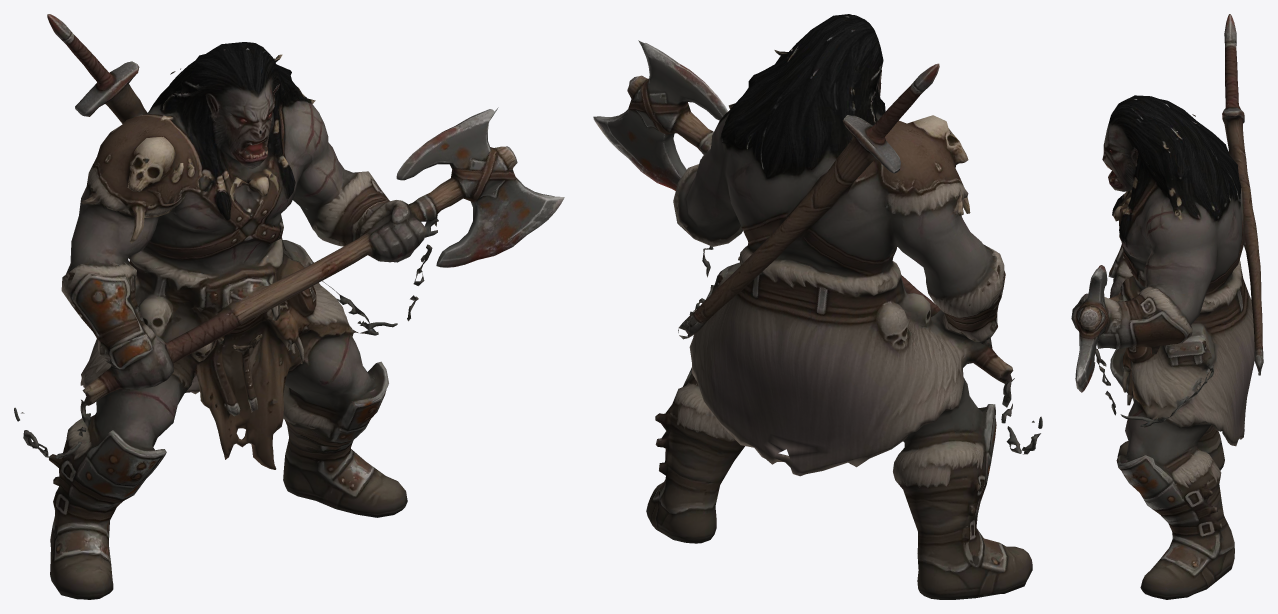
Rendered from Barbaro.glb.
3 renders of one model, left to right at view 1: azimuth 30°, elevation 25°; view 2: azimuth 150°, elevation 25°; view 3: azimuth 270°, elevation 25°, orthographic. The views are drawn at different scales.
Parts seen in each view (by area): view 1: tripo_node_fcbc9fd7-9018-470a-9724-6f06c1329b71; view 2: tripo_node_fcbc9fd7-9018-470a-9724-6f06c1329b71; view 3: tripo_node_fcbc9fd7-9018-470a-9724-6f06c1329b71.
Boxes of the visible parts, x1,y1,x2,y2 form: tripo_node_fcbc9fd7-9018-470a-9724-6f06c1329b71: [14, 14, 564, 599]; tripo_node_fcbc9fd7-9018-470a-9724-6f06c1329b71: [593, 14, 1042, 599]; tripo_node_fcbc9fd7-9018-470a-9724-6f06c1329b71: [1071, 14, 1263, 599].
Size of the model in its own units: 0.9551 by 0.9932 by 0.378.
1 material, 1 textured.
